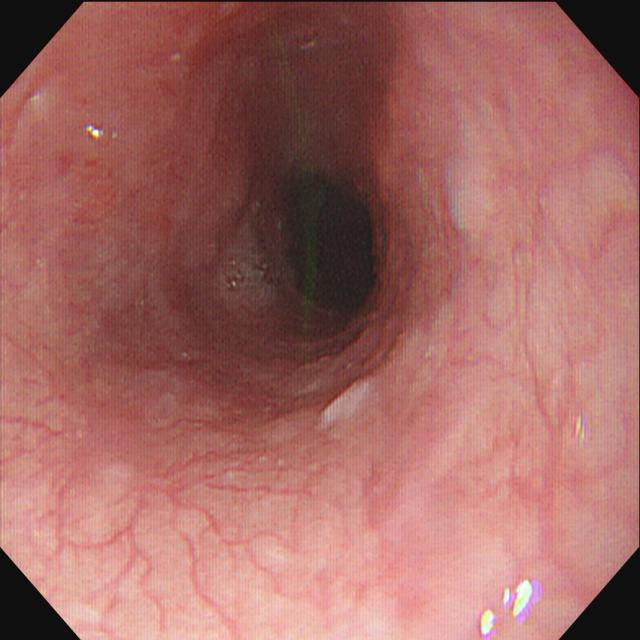E: (270, 171, 377, 323)
T: (219, 244, 277, 306)
U: (480, 579, 537, 638)
